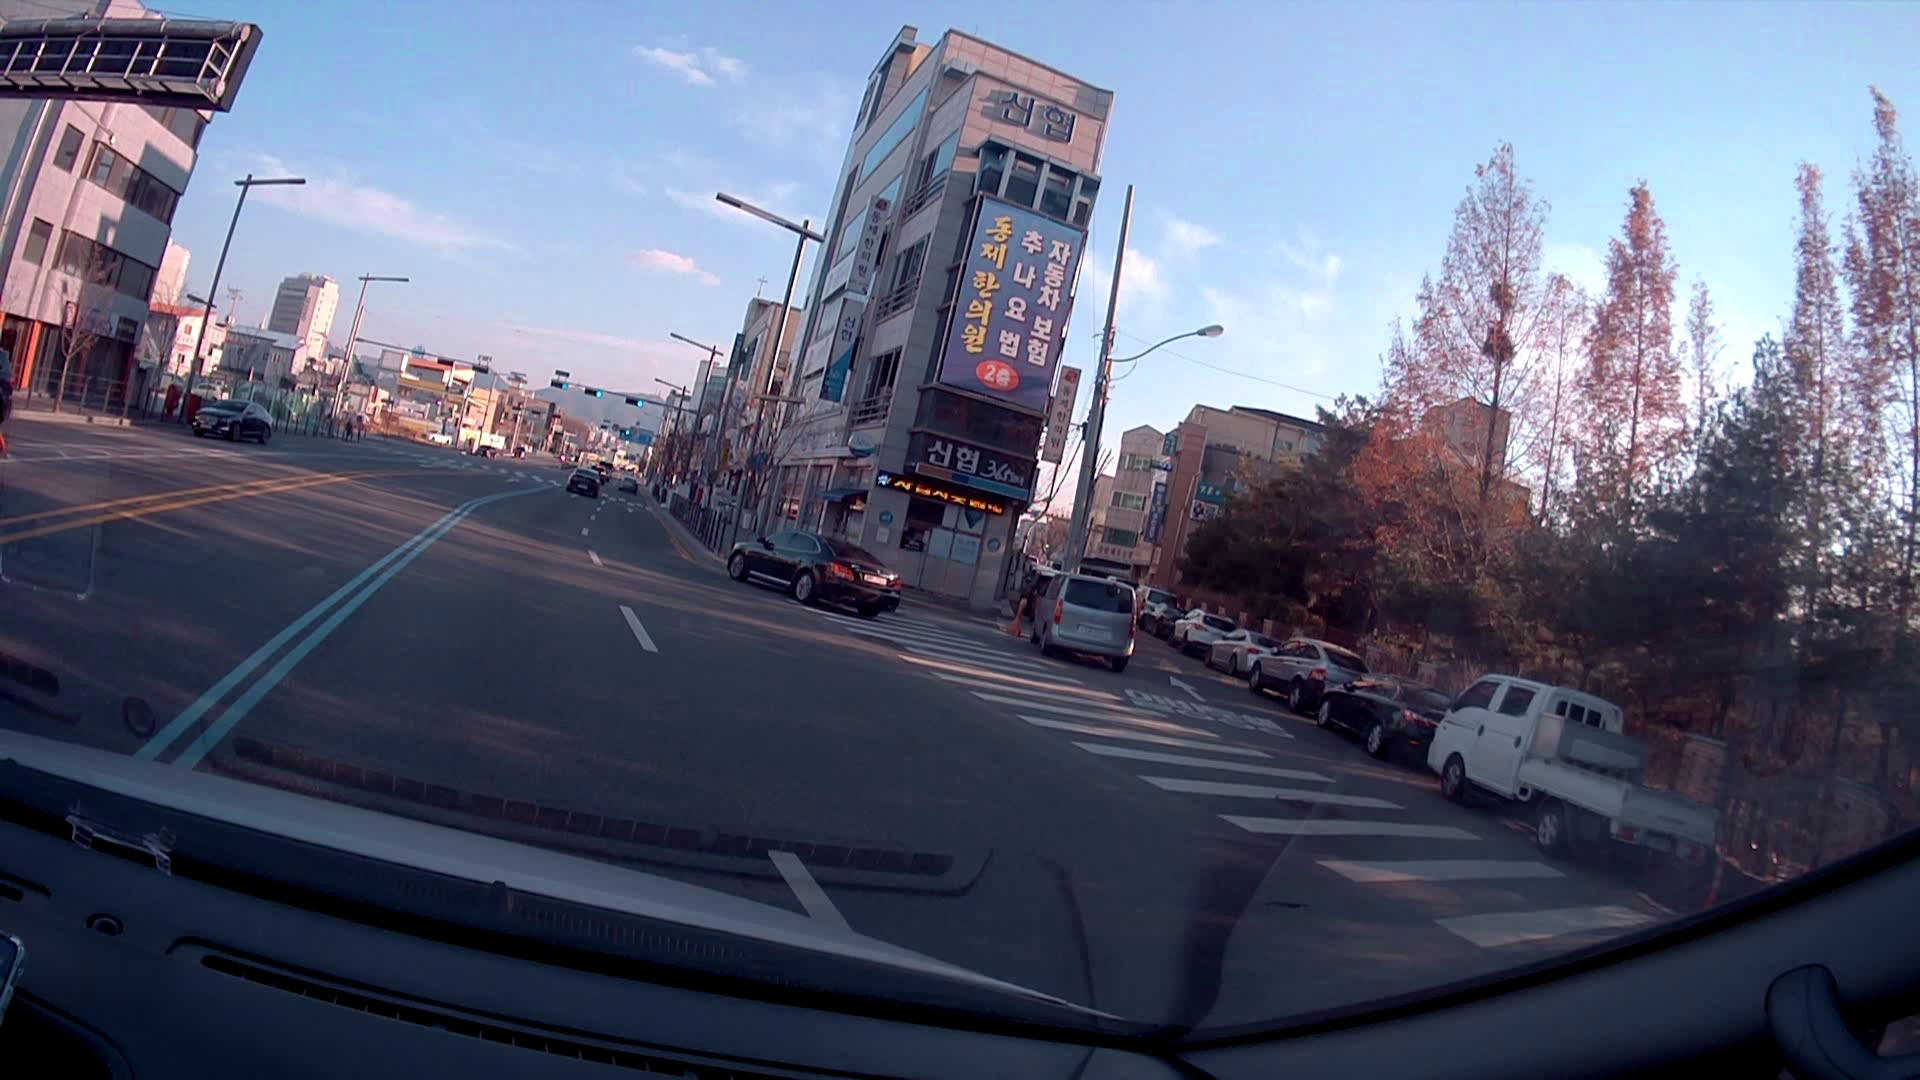trafficLight: (549, 377, 647, 411)
